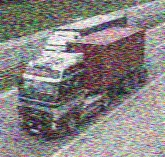truck: (16, 28, 146, 140)
